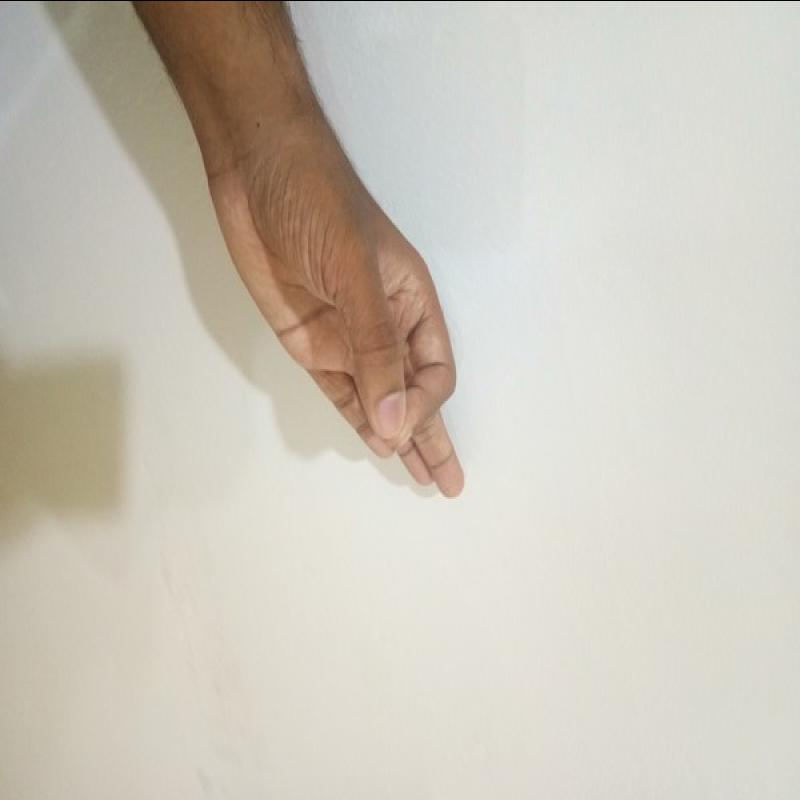Mudraakhyam: (197, 137, 492, 511)
